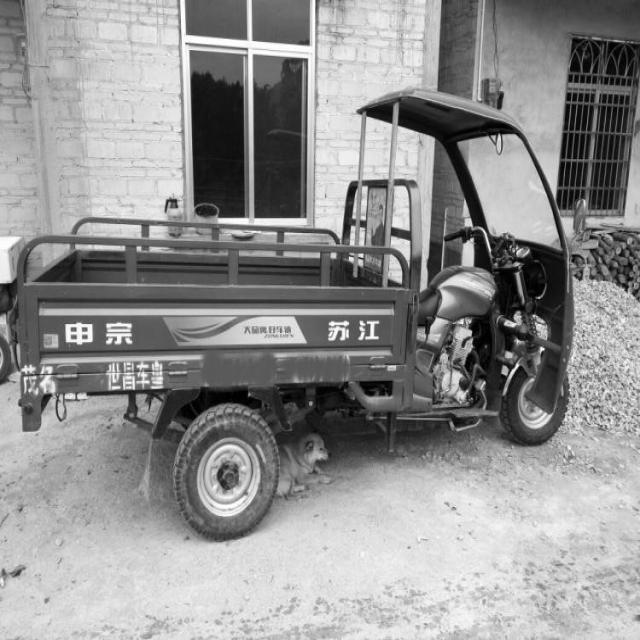tricycle: (16, 84, 585, 539)
